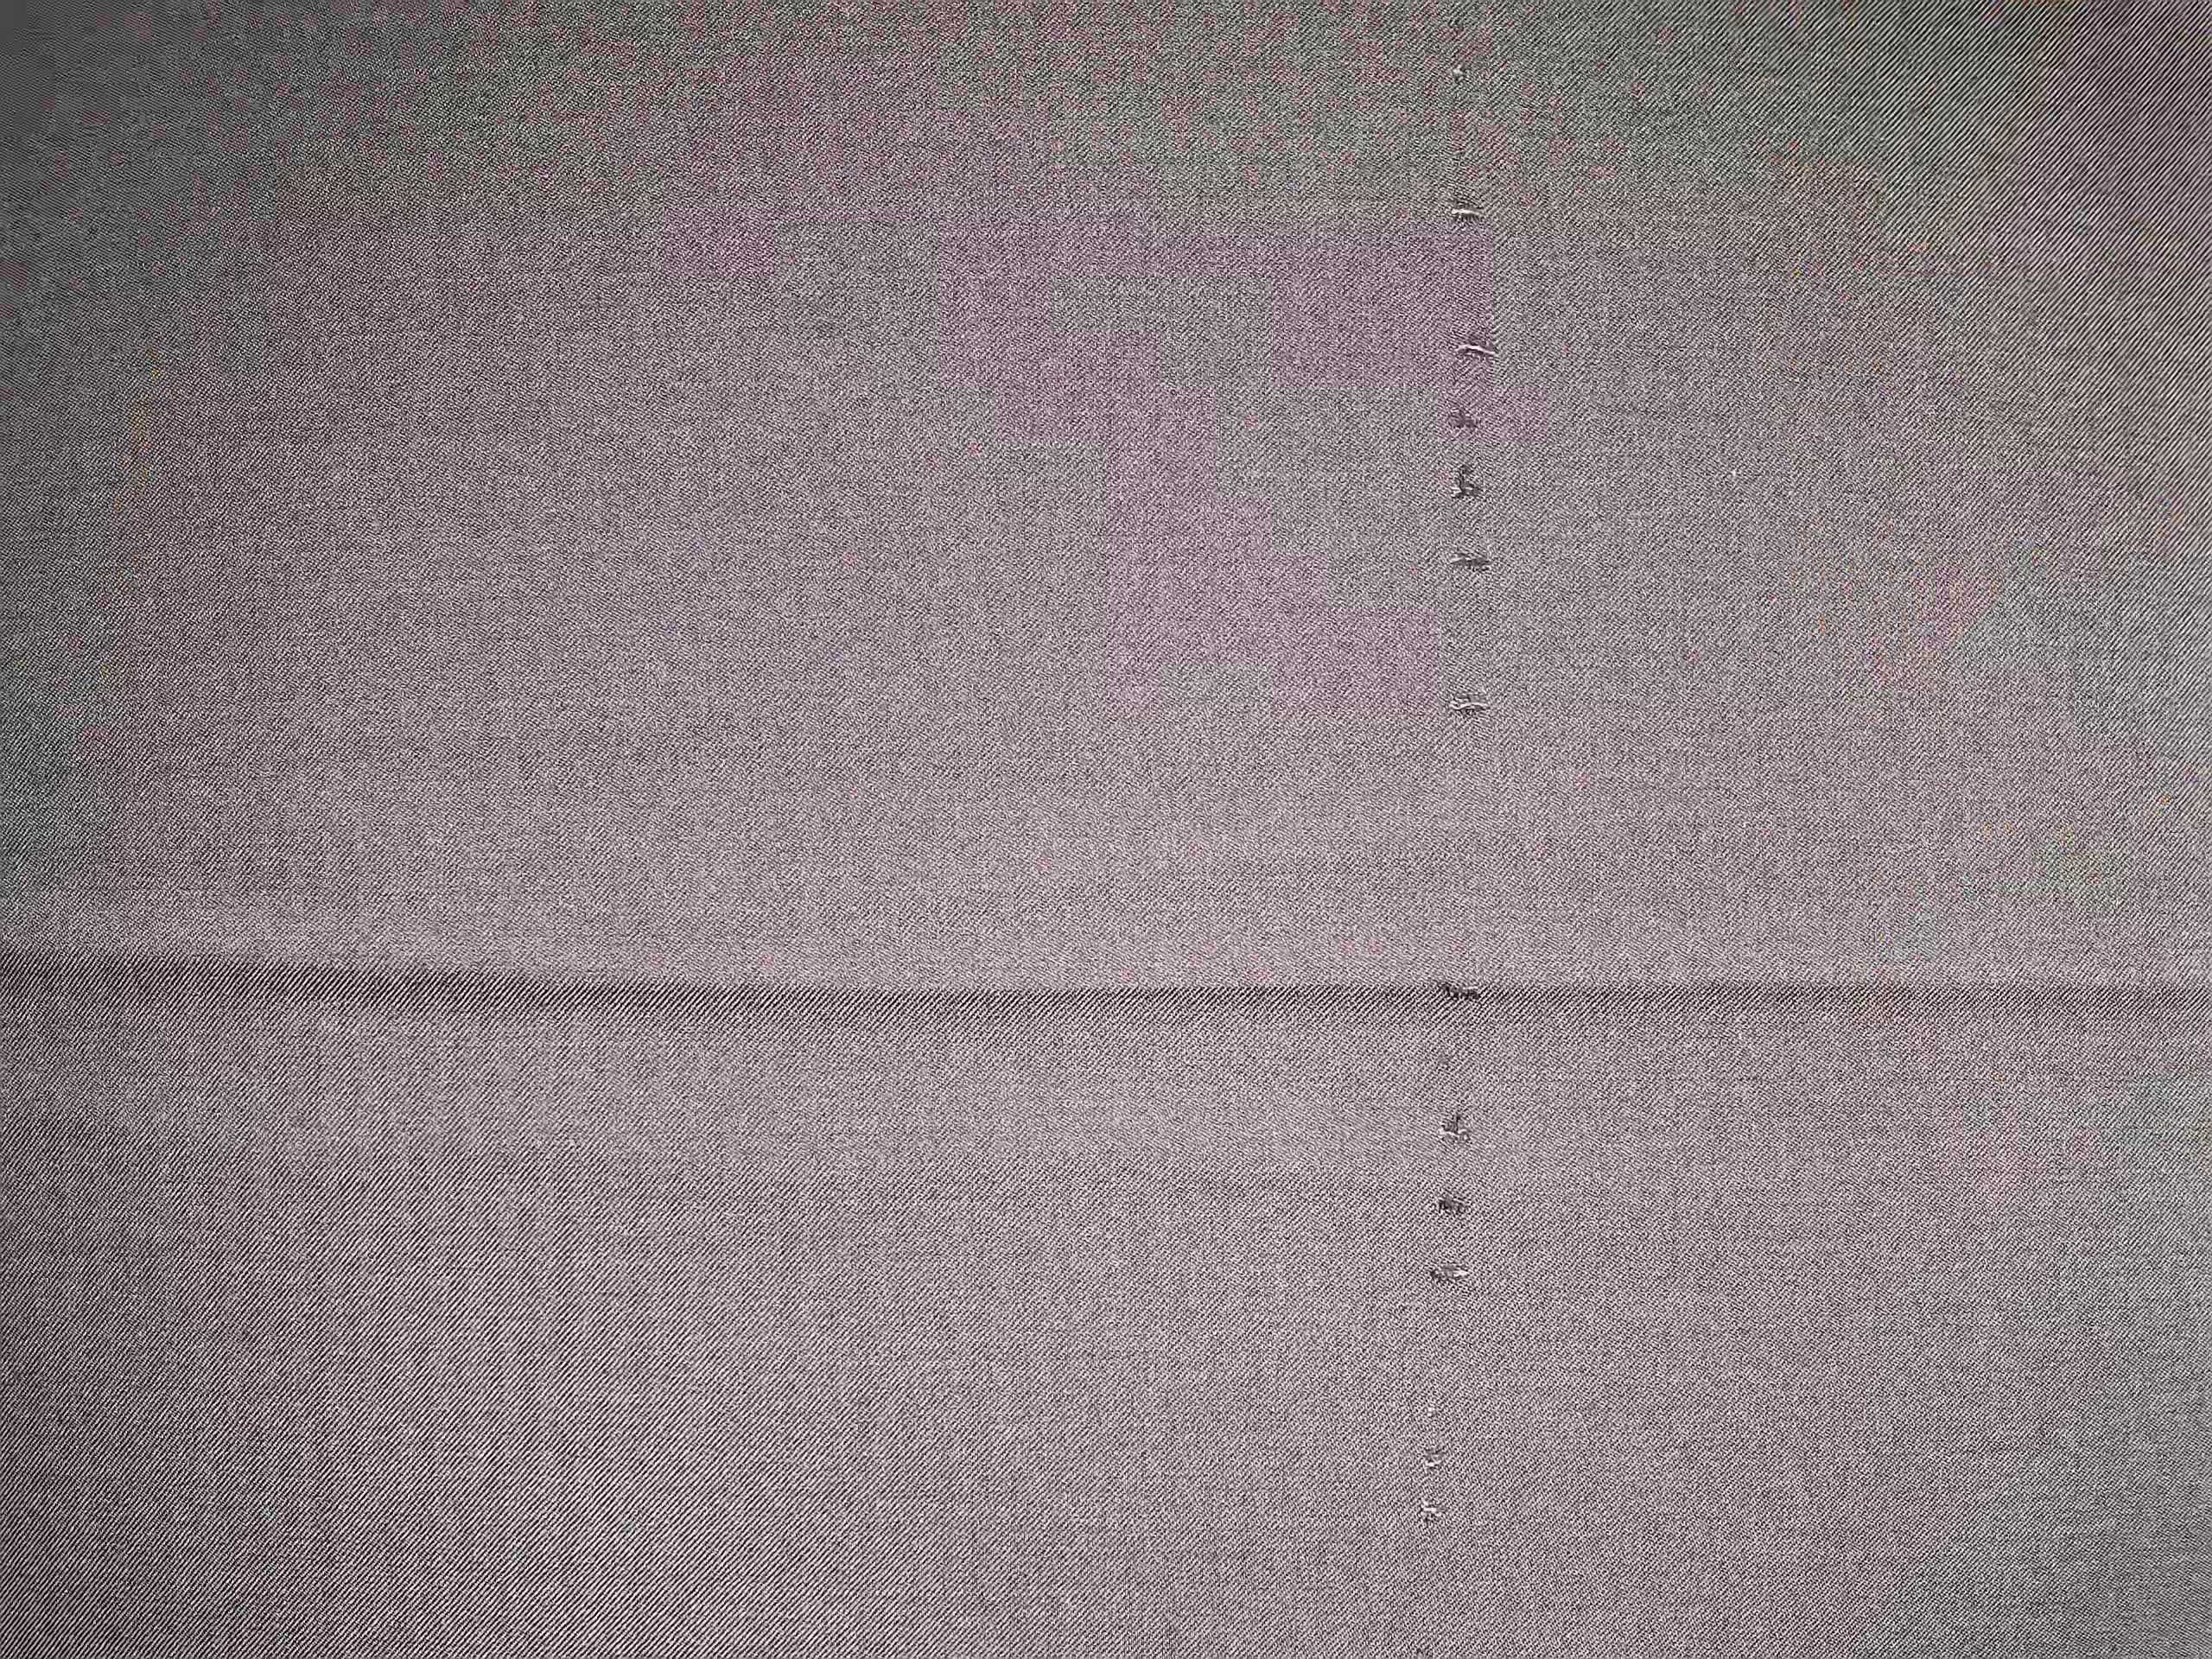puncture-hole: (1406, 61, 1526, 1574)
